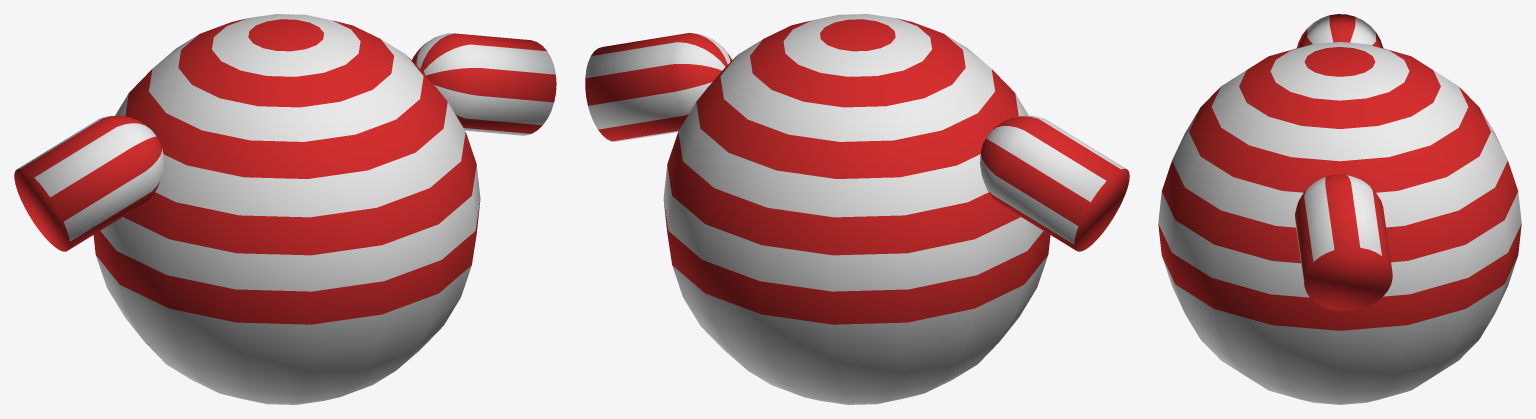
Rendered from TARGET3.dae.
3 renders of one model, left to right at view 1: azimuth 30°, elevation 25°; view 2: azimuth 150°, elevation 25°; view 3: azimuth 270°, elevation 25°, orthographic. The views are drawn at different scales.
Visible parts, largest first — view 1: TARGET; view 2: TARGET; view 3: TARGET.
Boxes of the visible parts, box(x1,y1,x2,y2) form: TARGET: box(14, 14, 556, 404); TARGET: box(585, 14, 1129, 404); TARGET: box(1158, 14, 1521, 404).
Size of the model in its own units: 3.04 by 2 by 2.
